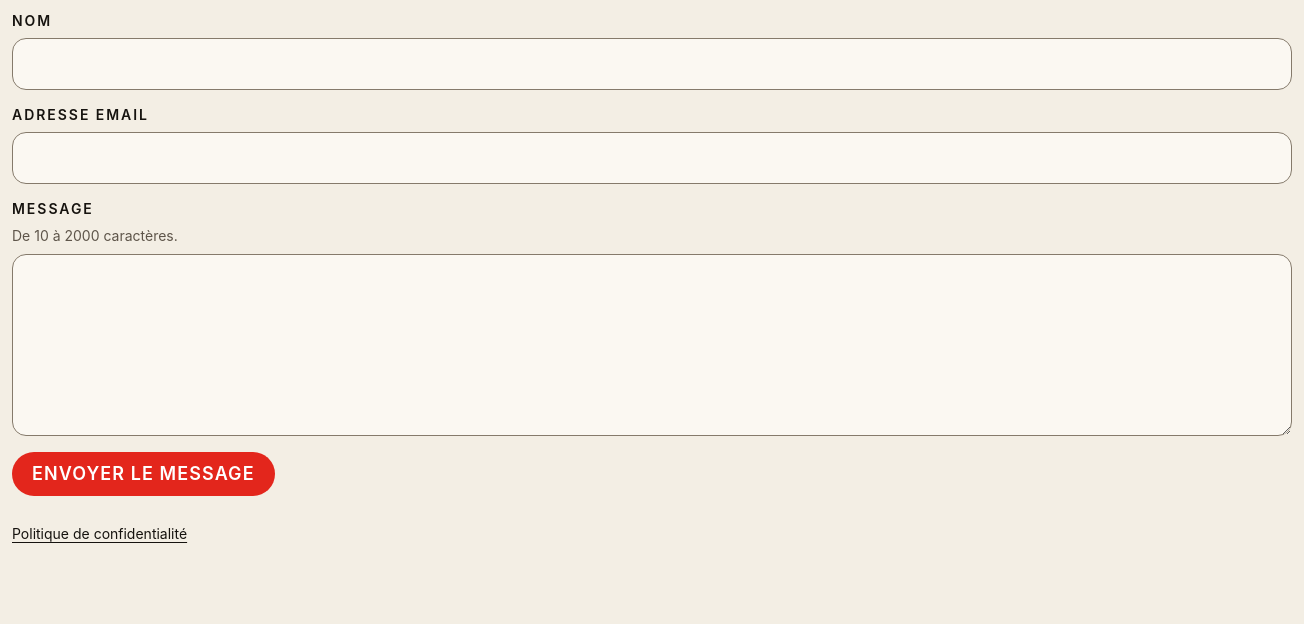
Test: FormulaireContact › champ invalide : erreur sous le champ liée par aria-describedby, résumé en alerte, saisie gardée
In the field labelled "Nom": (652, 64) [12, 38, 1292, 90], type "TEST_Awa"
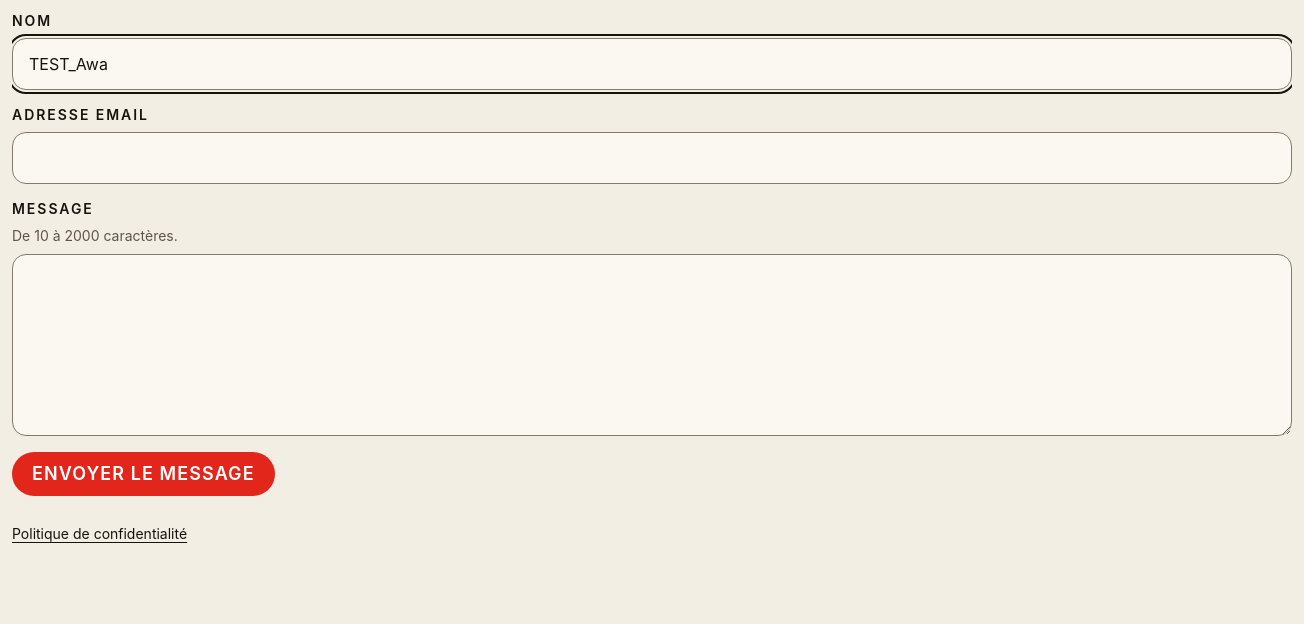
In the field labelled "Adresse email": (652, 158) [12, 132, 1292, 184], type "faux"
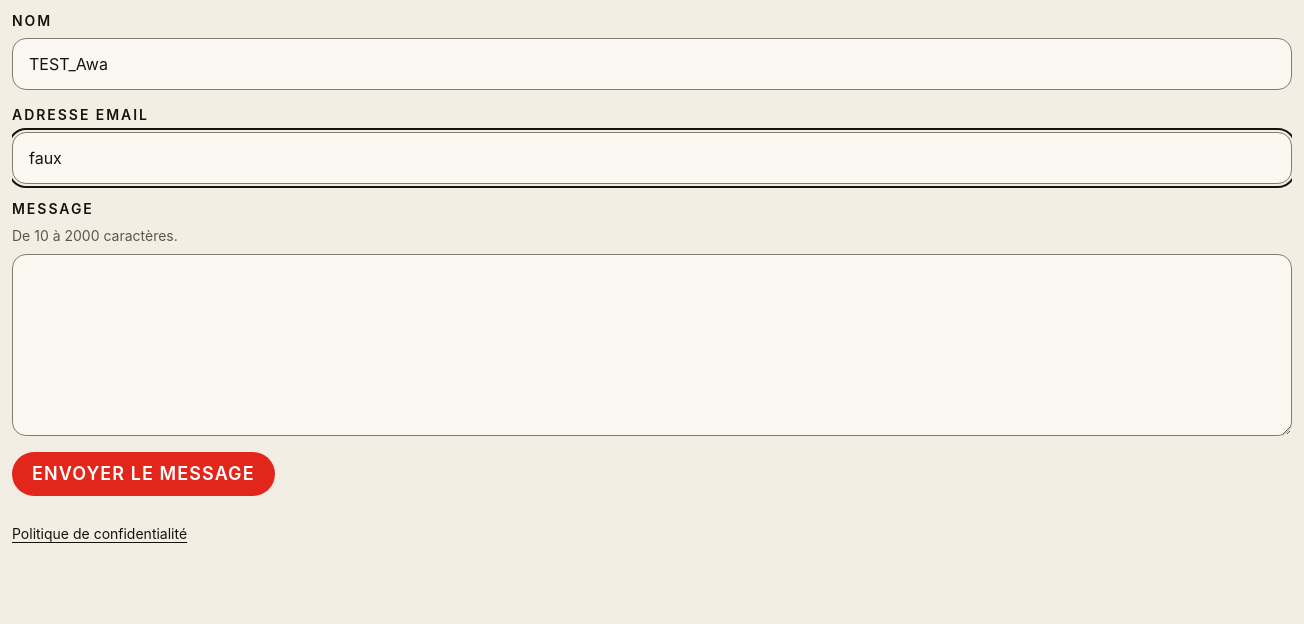
In the text box labelled "Message": (652, 345) [12, 254, 1292, 436], type "Bonjour, ceci est un message."
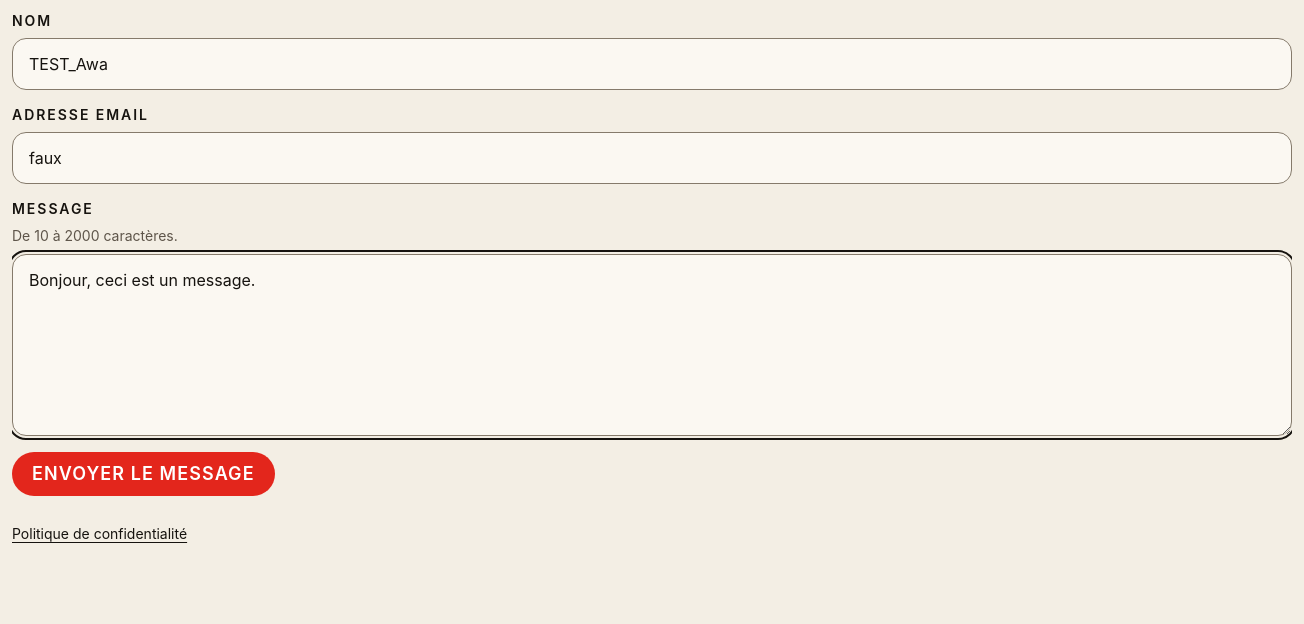
Click the button "Envoyer le message": (143, 474) [12, 452, 275, 496]
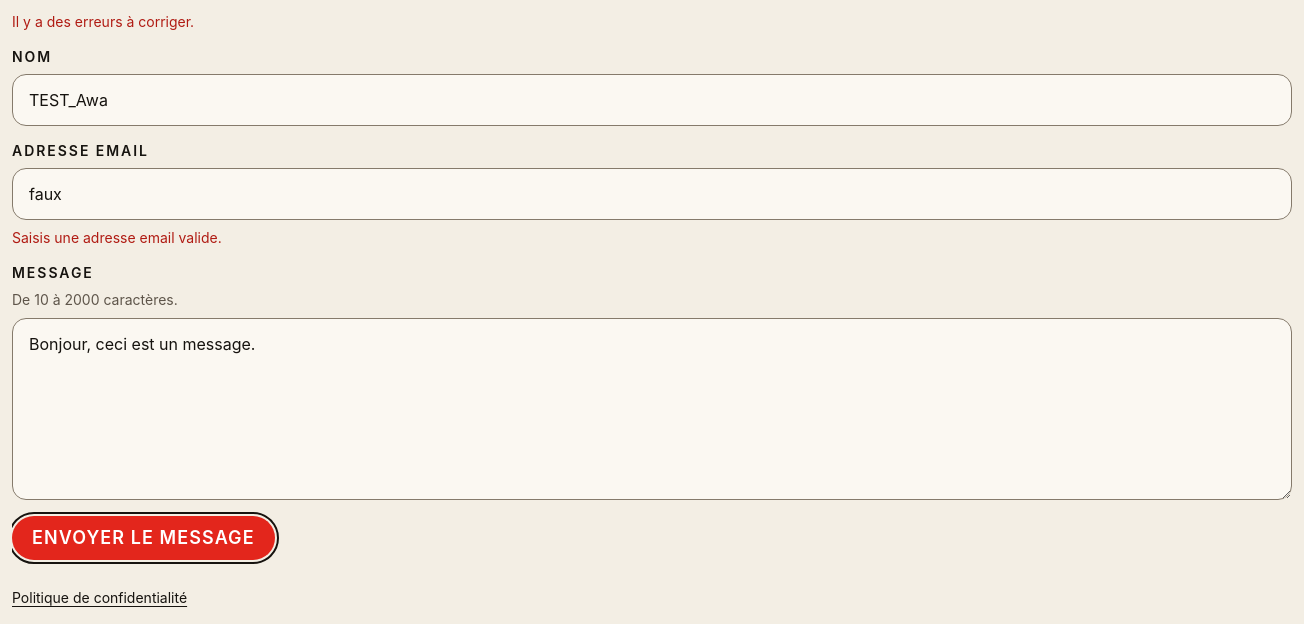
Now the text "Saisis une adresse email valide." is shown, box [12, 229, 222, 246]
Now the message reads "Il y a des erreurs à corriger.", box [12, 13, 194, 30]
